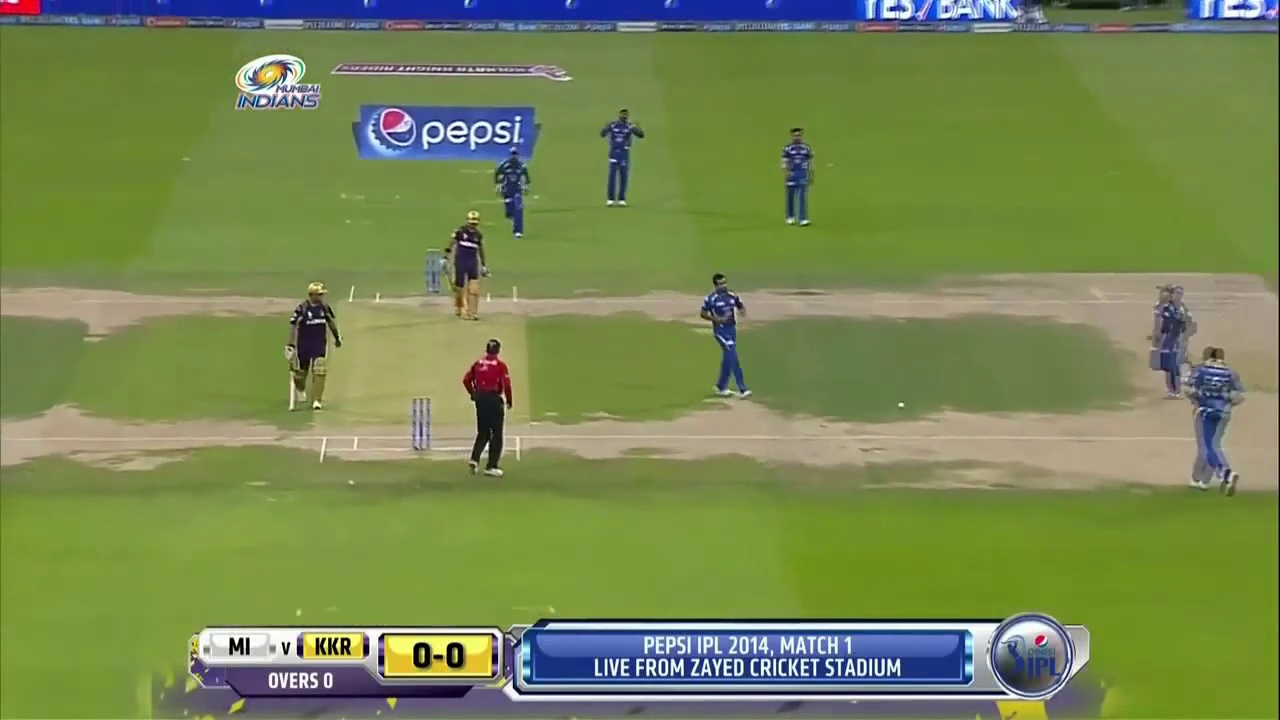bat: (290, 362, 295, 411)
stumps: (411, 395, 429, 453)
